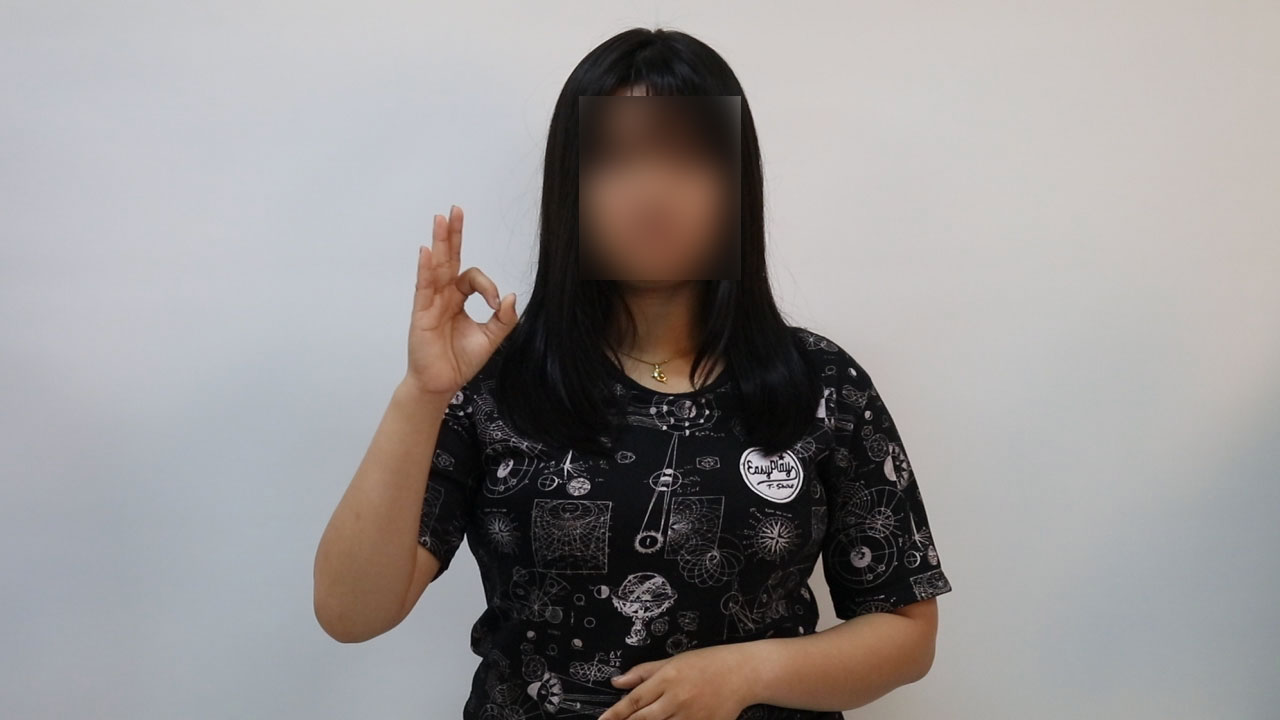for: (377, 194, 524, 416)
